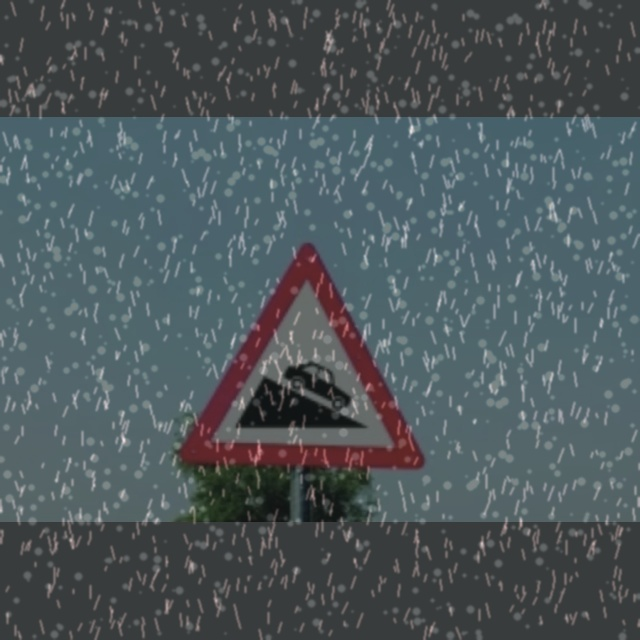Steep_Descent: (182, 243, 430, 478)
